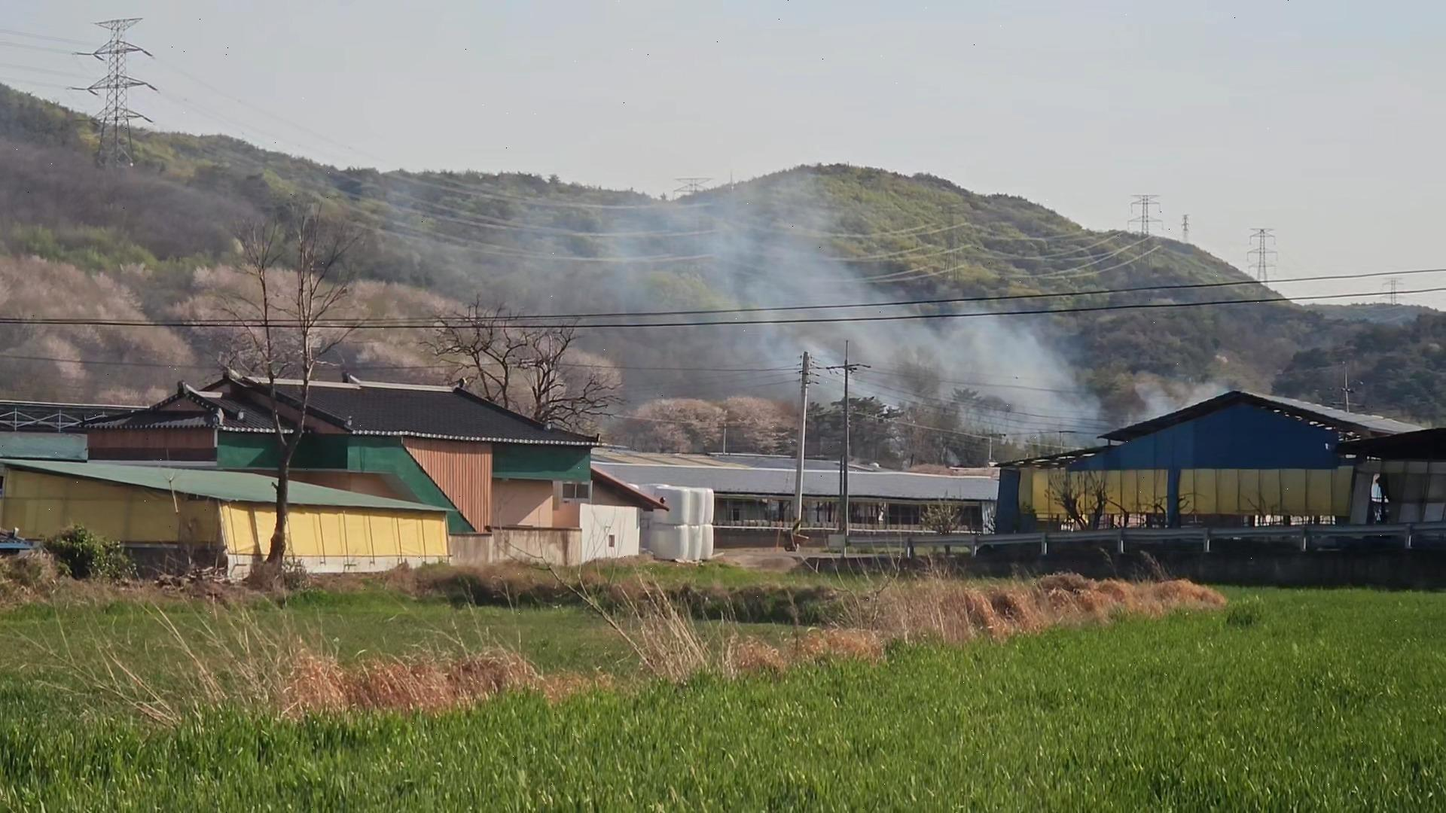smoke: (491, 182, 1108, 459)
